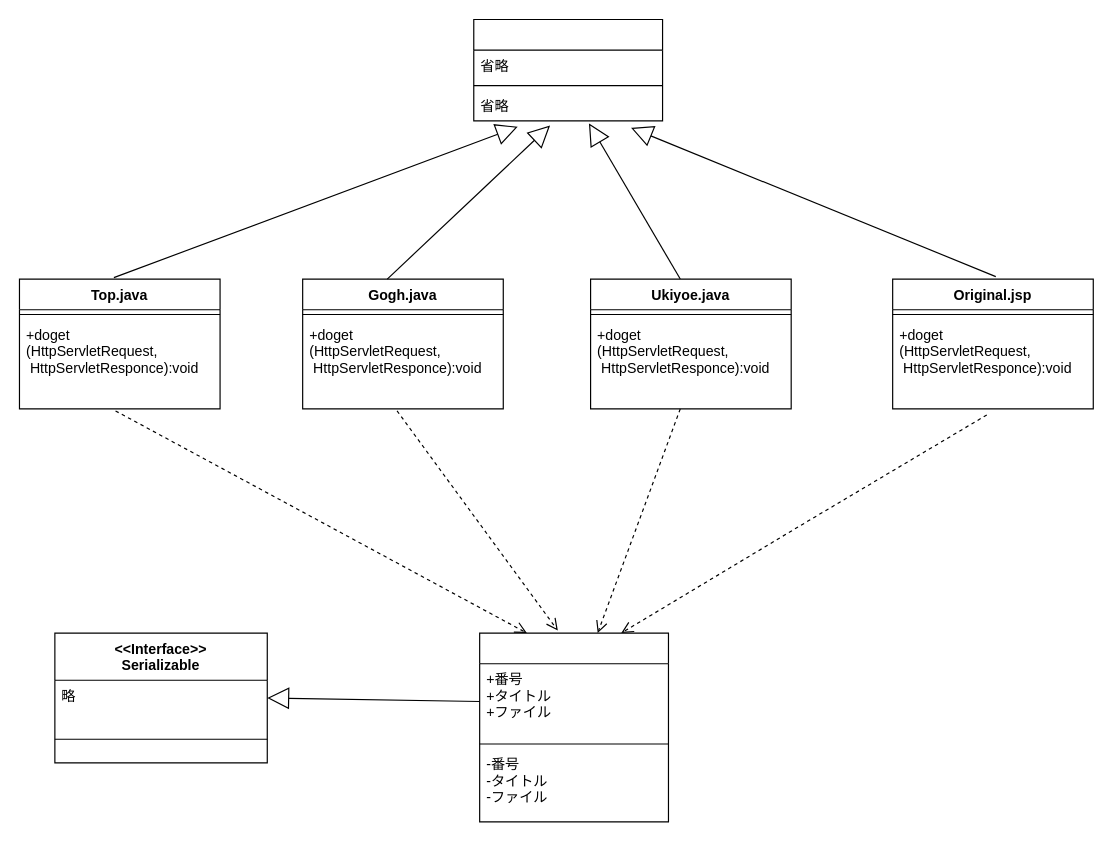
The diagram is 1113 pixels wide and 841 high, and some of its shapes have lost their labels. The shapes that lost their labels are listed below. From the top down, each one's box as (x1, y1, x2, y2) in pixels, then its label:
(473, 18, 663, 121): HttpServlet
(478, 632, 668, 822): ArtDBBean.java
